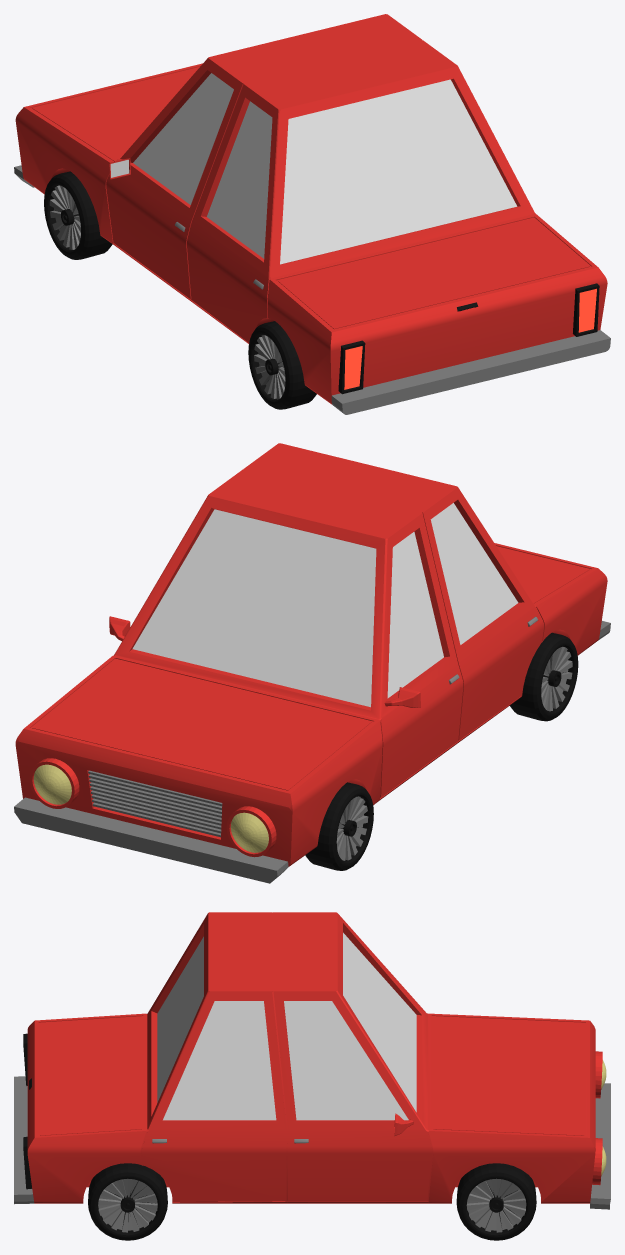
File: Car_Low_Poly.fbx
The picture shows the model from 3 angles, top to bottom: view 1: azimuth 30°, elevation 25°; view 2: azimuth 150°, elevation 25°; view 3: azimuth 270°, elevation 25°; orthographic projection. The views are drawn at different scales.
Visible parts, largest first — view 1: BoodyCar, BackCrash, BackWhiles, While-L-F, LightBack; view 2: BoodyCar, FrontCrash, LightFront, BackWhiles, While-L-F, Mirror; view 3: BoodyCar, BackWhiles, While-R-F, BackCrash, FrontCrash, LightFront, LightBack.
Part boxes in pixels (x1,y1,x2,y2): BoodyCar: [15, 14, 607, 404]; BackCrash: [331, 330, 610, 414]; BackWhiles: [248, 321, 316, 409]; While-L-F: [44, 171, 112, 259]; LightBack: [338, 283, 599, 394]; BoodyCar: [15, 443, 607, 866]; FrontCrash: [14, 797, 288, 883]; LightFront: [29, 758, 276, 857]; BackWhiles: [510, 632, 578, 721]; While-L-F: [305, 782, 373, 870]; Mirror: [109, 616, 420, 707]; BoodyCar: [27, 912, 595, 1203]; BackWhiles: [88, 1163, 167, 1240]; While-R-F: [456, 1163, 536, 1240]; BackCrash: [14, 1076, 34, 1204]; FrontCrash: [590, 1083, 610, 1209]; LightFront: [592, 1051, 606, 1185]; LightBack: [23, 1033, 32, 1189].
Size of the model in its own units: 489 by 379 by 903.
